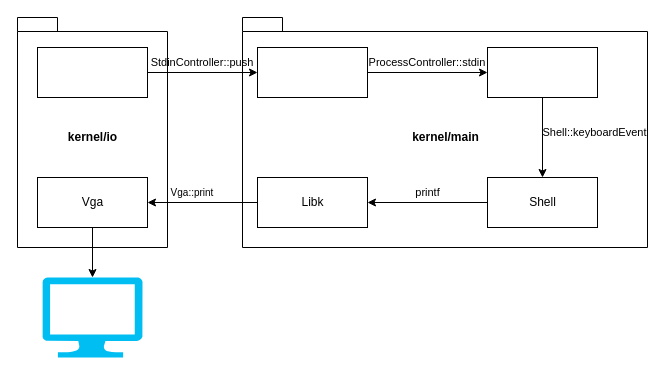
This 665x375 diagram has some shape labels left out. Each missing label, with the centre of its shape:
"ProcessController" goes at (x=542, y=72).
"Ps2Keyboard" goes at (x=92, y=72).
"StdinController" goes at (x=312, y=72).
